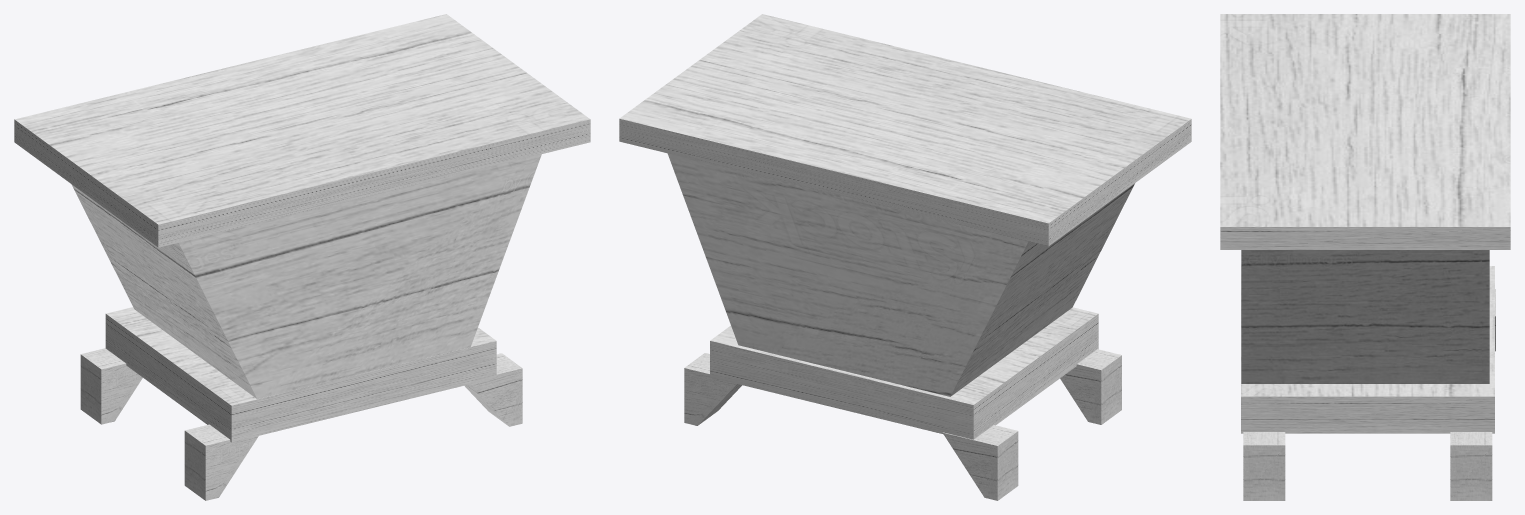
File: mueble_1.obj
The picture shows the model from 3 angles, left to right: view 1: azimuth 30°, elevation 25°; view 2: azimuth 150°, elevation 25°; view 3: azimuth 270°, elevation 25°; orthographic projection.
Visible parts, largest first — view 1: mueble_1:pCube14; view 2: mueble_1:pCube14; view 3: mueble_1:pCube14.
Part boxes in pixels (x1,y1,x2,y2): mueble_1:pCube14: [14, 14, 590, 500]; mueble_1:pCube14: [619, 14, 1191, 500]; mueble_1:pCube14: [1220, 14, 1510, 500].
Bounding box in the file's own units: 2.03 × 1.34 × 1.17.
Materials: 1 (1 with a texture image).
